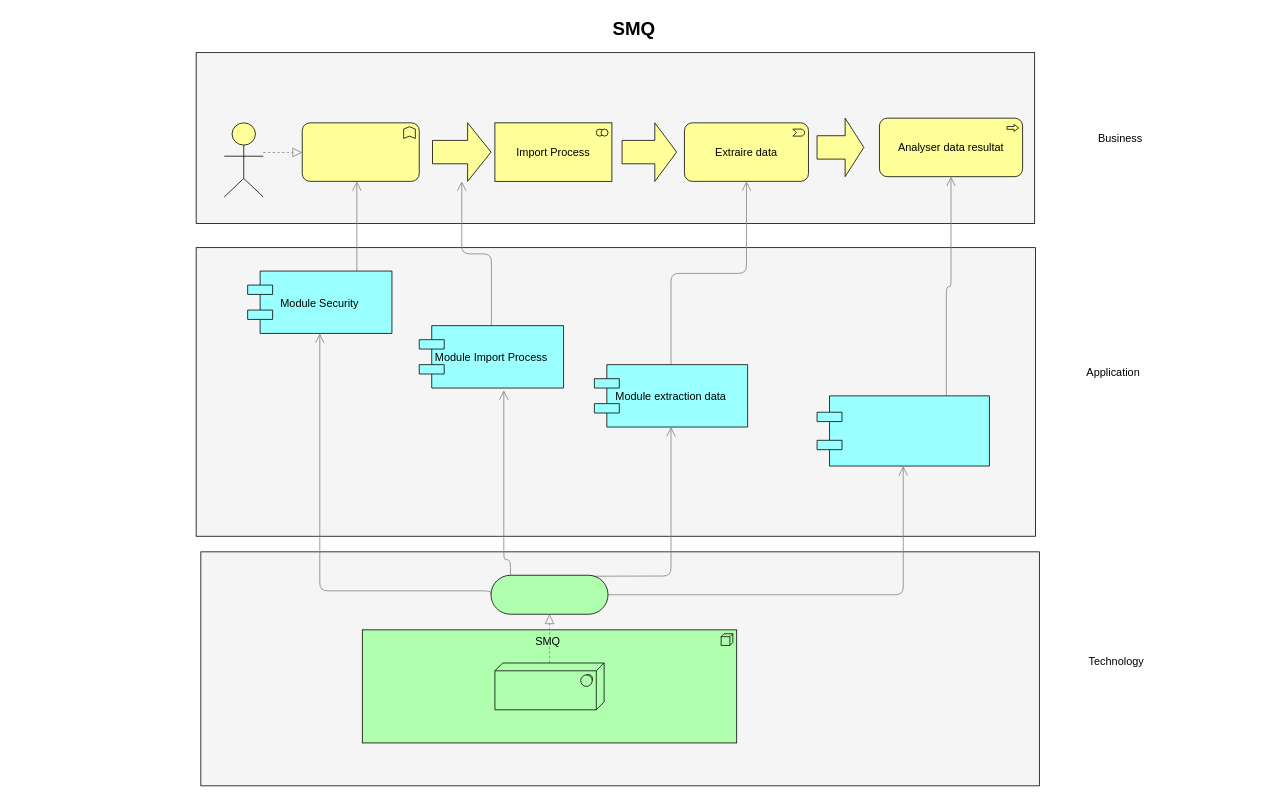
The diagram is 1267 pixels wide and 800 high, and some of its shapes have lost their labels. The shapes that lost their labels are listed below. From the top down, each one's centre as x and y in pixels, then its label:
point (360, 151): Authentification Users
point (902, 430): Module Analyseur Process
point (549, 594): Service
point (549, 686): System Software
